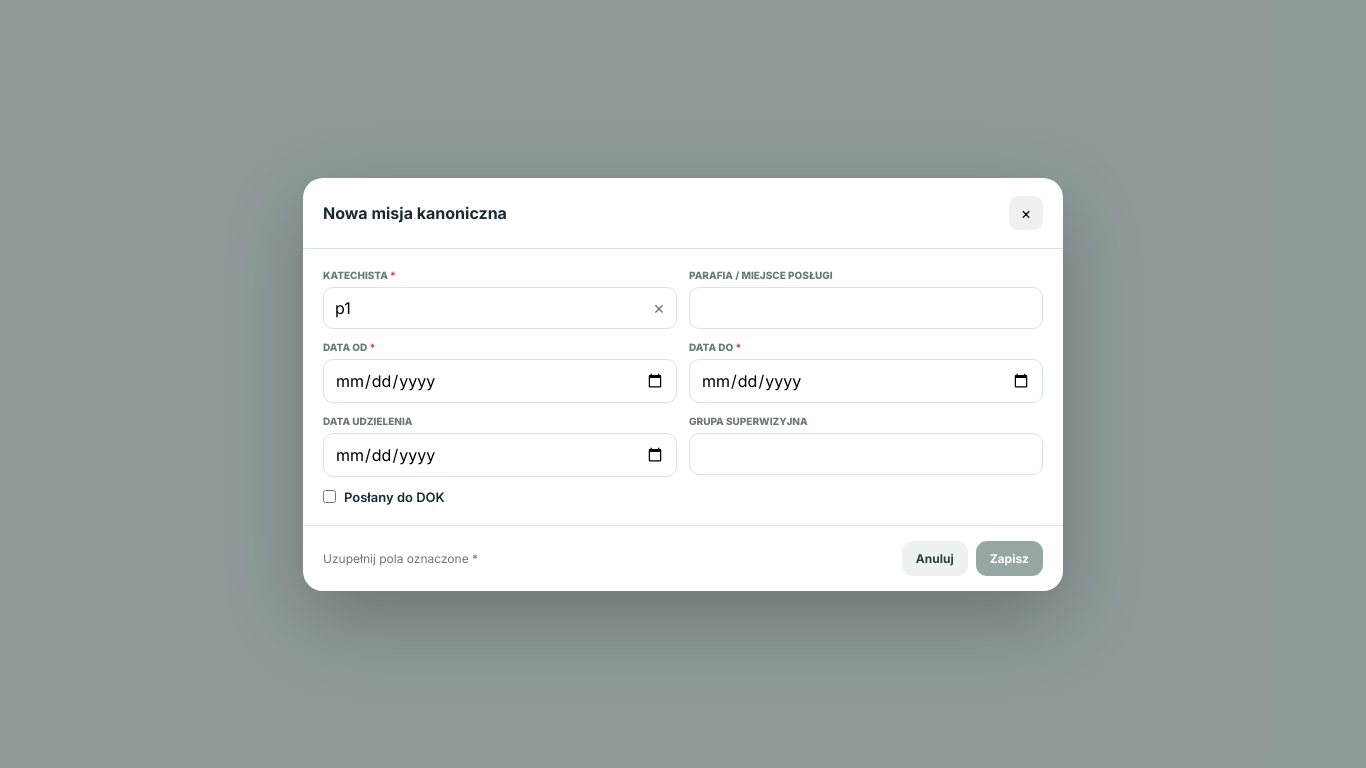
it: MissionFormComponent › keeps saving disabled until both mission dates are chosen
In the date field below "Data od": (500, 380) top-left (323, 358), bottom-right (677, 402), type "2026-01-01"
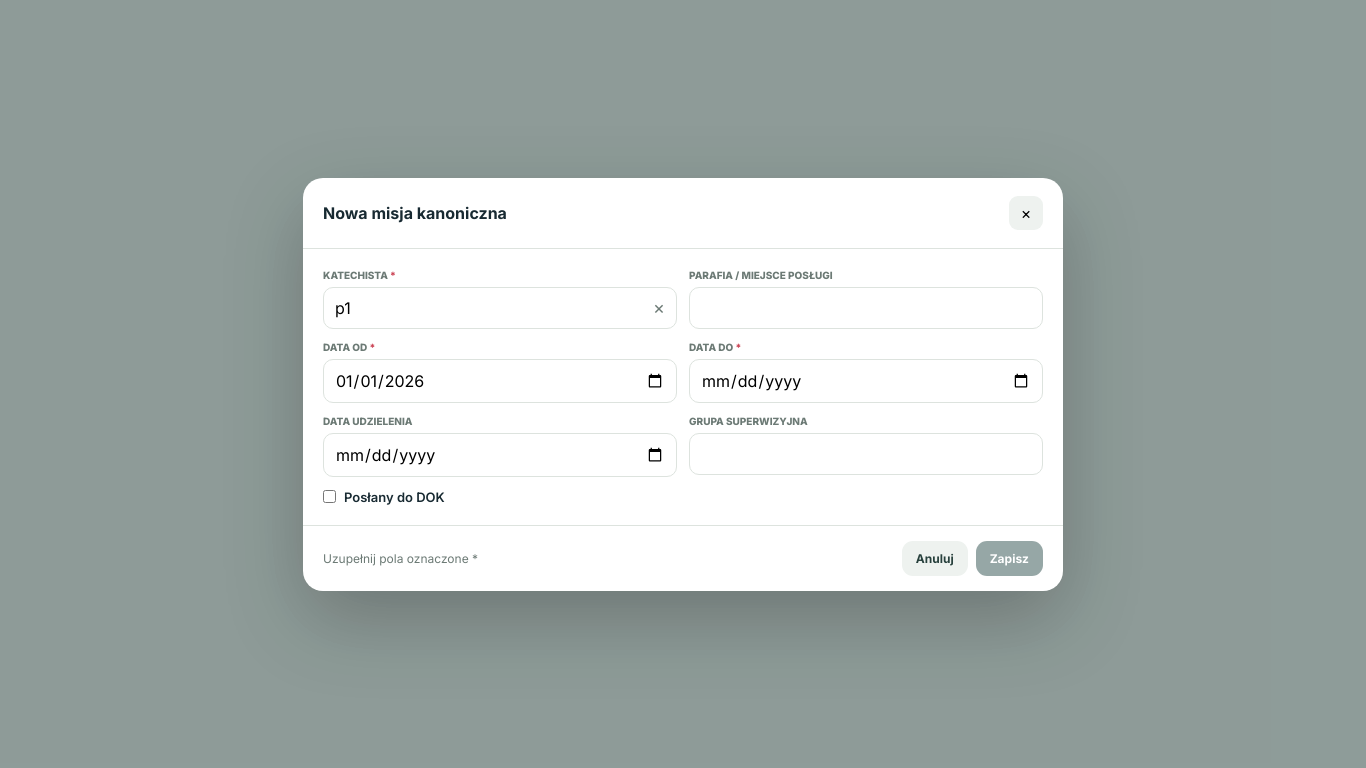
Expected: the element that starts with "Nowa misja kanoniczna" shows "Uzupełnij pola oznaczone *", top-left (323, 550), bottom-right (478, 566)
In the date field below "Data do": (866, 380) top-left (689, 358), bottom-right (1043, 402), type "2029-01-01"
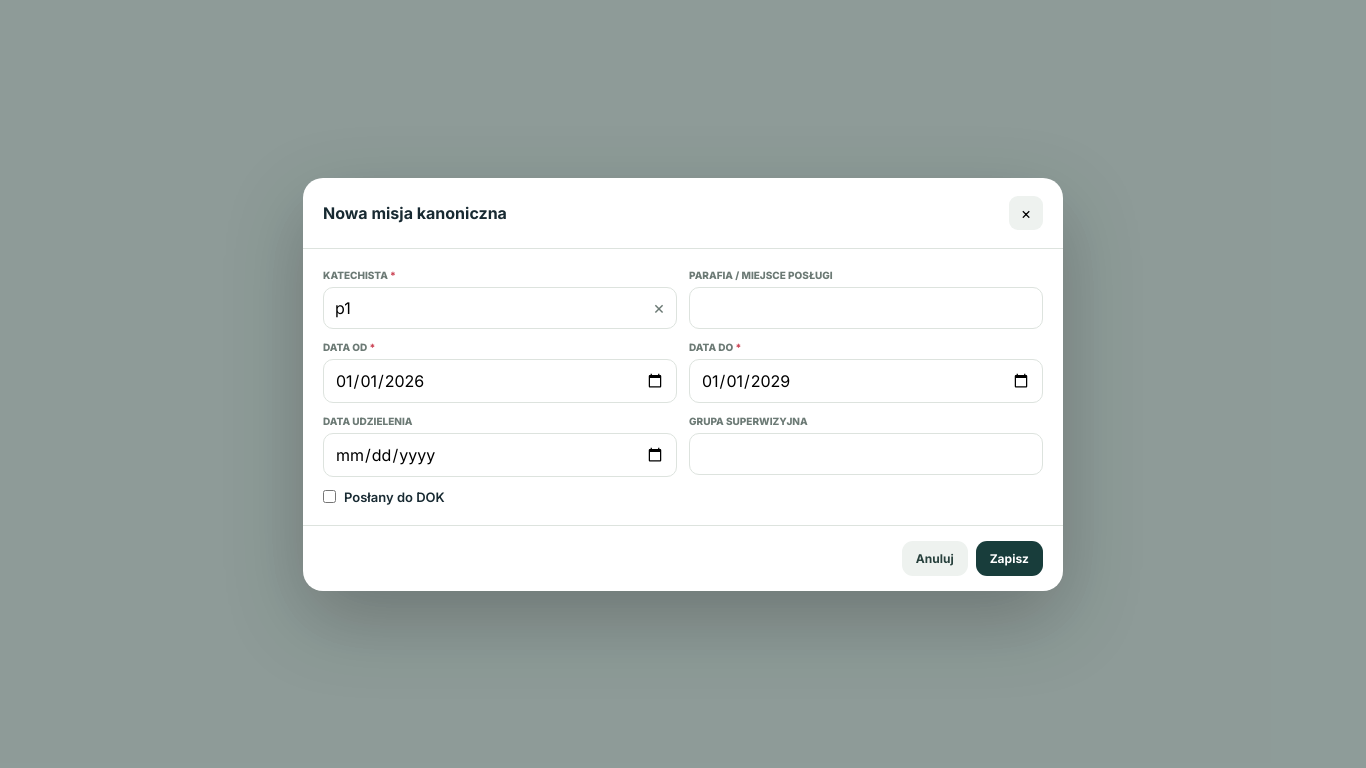
Now the text "Uzupełnij pola oznaczone *" is gone
